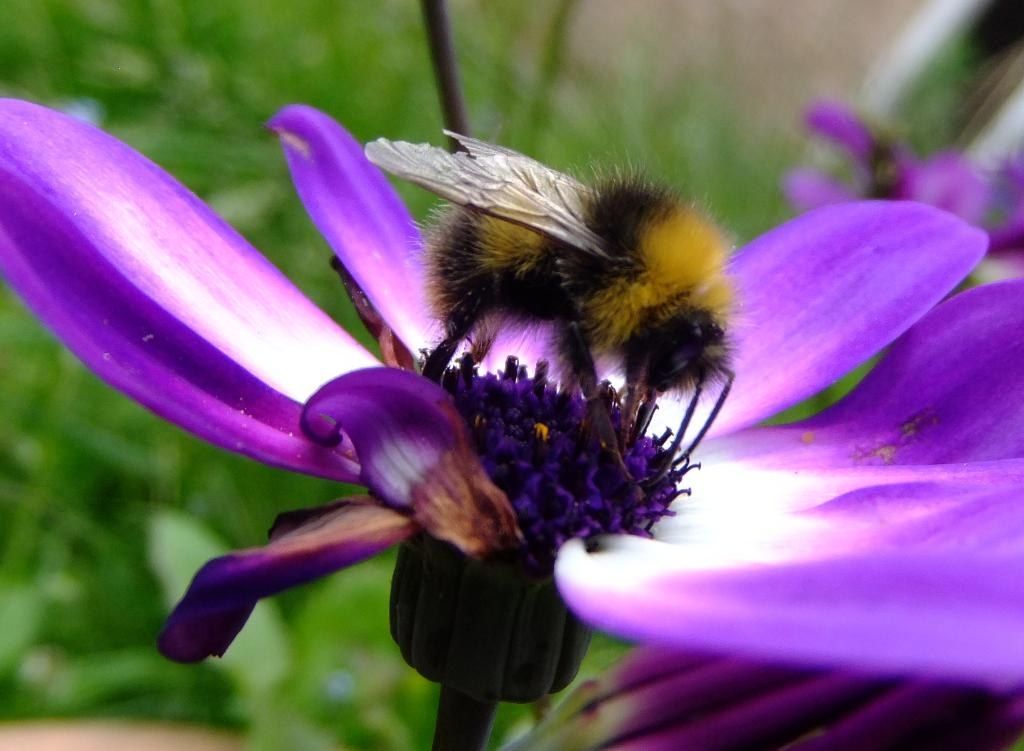bee: (364, 130, 749, 458)
